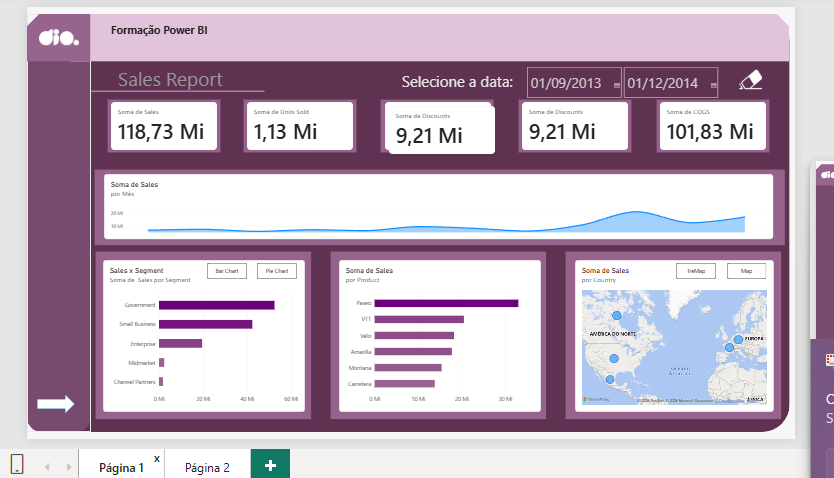

What the dashboard file says about the page in this screenshot:
{"tool":"powerbi","page":{"name":"Página 1","canvas":[1920,1080],"ordinal":0},"visuals":[{"type":"shape","box":[11.4,17,1894.4,1045.2],"z":0},{"type":"image","box":[1753.3,153.3,113.3,56.7],"z":0,"group":"g2"},{"type":"shape","box":[193.3,223.3,300,150],"z":0,"group":"g1"},{"type":"clusteredBarChart","title":"Sales x Segment","fields":{"Category":["financials.Segment"],"Y":["Sum(financials. Sales)"]},"box":[190,631.7,505,380],"z":0,"group":"g4"},{"type":"actionButton","box":[575.6,640,100,40],"z":500,"group":"g4"},{"type":"actionButton","box":[450,640,100,40],"z":750,"group":"g4"},{"type":"shape","box":[0,17,159.1,1045.2],"z":1000},{"type":"slicer","fields":{"Values":["financials.Date"]},"box":[1242.5,145,520,102.5],"z":1000,"group":"g2"},{"type":"shape","box":[533.3,223.3,300,150],"z":1000,"group":"g1"},{"type":"shape","box":[110.8,17,1795,119.3],"z":2000},{"type":"actionButton","box":[1762.5,152.5,100,70],"z":2000,"group":"g2"},{"type":"shape","box":[876.6,223.3,300,150],"z":2000,"group":"g1"},{"type":"shape","box":[24.4,967.5,95,50],"z":2000,"group":"g4"},{"type":"textbox","box":[937.5,160,282.5,52.5],"z":2500,"group":"g2"},{"type":"shape","box":[0,17,159.1,119.3],"z":3000},{"type":"shape","box":[1220,223.3,300,150],"z":3000,"group":"g1"},{"type":"image","box":[30,28,100,96],"z":4000},{"type":"shape","box":[1566.6,223.3,300,150],"z":4000,"group":"g1"},{"type":"textbox","box":[210,38.3,931.7,76.7],"z":5000},{"type":"shape","box":[160,198,434,26],"z":6000},{"type":"textbox","box":[228,144,300,68],"z":7000},{"type":"shape","box":[160,396.7,1743.3,206.7],"z":8000},{"type":"group","id":"g1","title":"Grupo 1","box":[193.3,223.3,1673.3,150],"z":9000},{"type":"shape","box":[163.3,603.3,556.7,436.7],"z":10000},{"type":"shape","box":[750,603.3,556.7,436.7],"z":11000},{"type":"shape","box":[1336.7,603.3,556.7,436.7],"z":12000},{"type":"areaChart","fields":{"Category":["financials.Date.Variation.Hierarquia de datas.Mês"],"Y":["Sum(financials. Sales)"]},"box":[193.3,416.7,1673.3,163.3],"z":13000},{"type":"cardVisual","fields":{"Data":["Sum(financials. Sales)"]},"box":[210,238.3,265,120],"z":14000},{"type":"cardVisual","fields":{"Data":["Sum(financials.Discounts)"]},"box":[895,238.3,265,120],"z":15000},{"type":"cardVisual","fields":{"Data":["Sum(financials.Units Sold)"]},"box":[550,238.3,265,120],"z":16000},{"type":"cardVisual","fields":{"Data":["Sum(financials.Discounts)"]},"box":[1236.7,238.3,265,120],"z":17000},{"type":"cardVisual","fields":{"Data":["Sum(financials.COGS)"]},"box":[1583.3,238.3,265,120],"z":18000},{"type":"clusteredBarChart","fields":{"Category":["financials.Product"],"Y":["Sum(financials. Sales)"]},"box":[780,631.7,505,380],"z":19000},{"type":"group","id":"g2","title":"Grupo 2","box":[937.5,145,929.2,102.5],"z":20000},{"type":"cardVisual","fields":{"Data":["Sum(financials.Discounts)"]},"box":[905,248.3,265,120],"z":21000},{"type":"map","fields":{"Category":["financials.Country"],"Size":["Sum(financials. Sales)"]},"box":[1370,631.7,496.7,380],"z":21000,"group":"g3"},{"type":"actionButton","box":[1622.2,640,100,40],"z":21500,"group":"g3"},{"type":"group","id":"g3","title":"Grupo 3","box":[1370,631.7,505,380.8],"z":22000},{"type":"actionButton","box":[1750,640,98.3,40],"z":22001,"group":"g3"},{"type":"group","id":"g4","title":"Grupo 4","box":[24.4,631.7,673.1,385.8],"z":23000}]}

Visuals, with their boxes on the page's 1920x1080 design canvas (x1, y1, x2, y2). These are canvas units, not pixel positions in the 834x478 screenshot, which may show the page scaled, cropped or inside an application window:
shape: [x1=11, y1=17, x2=1906, y2=1062]
image: [x1=1753, y1=153, x2=1867, y2=210]
shape: [x1=193, y1=223, x2=493, y2=373]
"Sales x Segment" clusteredBarChart: [x1=190, y1=632, x2=695, y2=1012]
actionButton: [x1=576, y1=640, x2=676, y2=680]
actionButton: [x1=450, y1=640, x2=550, y2=680]
shape: [x1=0, y1=17, x2=159, y2=1062]
slicer - financials.Date: [x1=1242, y1=145, x2=1762, y2=248]
shape: [x1=533, y1=223, x2=833, y2=373]
shape: [x1=111, y1=17, x2=1906, y2=136]
actionButton: [x1=1762, y1=152, x2=1862, y2=222]
shape: [x1=877, y1=223, x2=1177, y2=373]
shape: [x1=24, y1=968, x2=119, y2=1018]
textbox: [x1=938, y1=160, x2=1220, y2=212]
shape: [x1=0, y1=17, x2=159, y2=136]
shape: [x1=1220, y1=223, x2=1520, y2=373]
image: [x1=30, y1=28, x2=130, y2=124]
shape: [x1=1567, y1=223, x2=1867, y2=373]
textbox: [x1=210, y1=38, x2=1142, y2=115]
shape: [x1=160, y1=198, x2=594, y2=224]
textbox: [x1=228, y1=144, x2=528, y2=212]
shape: [x1=160, y1=397, x2=1903, y2=603]
"Grupo 1" group: [x1=193, y1=223, x2=1867, y2=373]
shape: [x1=163, y1=603, x2=720, y2=1040]
shape: [x1=750, y1=603, x2=1307, y2=1040]
shape: [x1=1337, y1=603, x2=1893, y2=1040]
areaChart - financials.Date.Variation.Hierarquia de datas.Mês x Sum(financials. Sales): [x1=193, y1=417, x2=1867, y2=580]
cardVisual - Sum(financials. Sales): [x1=210, y1=238, x2=475, y2=358]
cardVisual - Sum(financials.Discounts): [x1=895, y1=238, x2=1160, y2=358]
cardVisual - Sum(financials.Units Sold): [x1=550, y1=238, x2=815, y2=358]
cardVisual - Sum(financials.Discounts): [x1=1237, y1=238, x2=1502, y2=358]
cardVisual - Sum(financials.COGS): [x1=1583, y1=238, x2=1848, y2=358]
clusteredBarChart - financials.Product x Sum(financials. Sales): [x1=780, y1=632, x2=1285, y2=1012]
"Grupo 2" group: [x1=938, y1=145, x2=1867, y2=248]
cardVisual - Sum(financials.Discounts): [x1=905, y1=248, x2=1170, y2=368]
map - financials.Country x Sum(financials. Sales): [x1=1370, y1=632, x2=1867, y2=1012]
actionButton: [x1=1622, y1=640, x2=1722, y2=680]
"Grupo 3" group: [x1=1370, y1=632, x2=1875, y2=1012]
actionButton: [x1=1750, y1=640, x2=1848, y2=680]
"Grupo 4" group: [x1=24, y1=632, x2=698, y2=1018]
